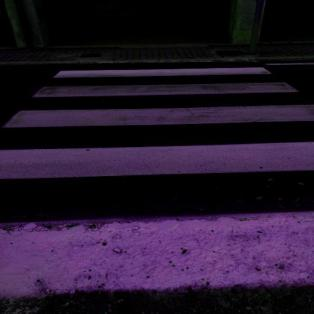Paso de Cebra: (19, 66, 307, 100)
